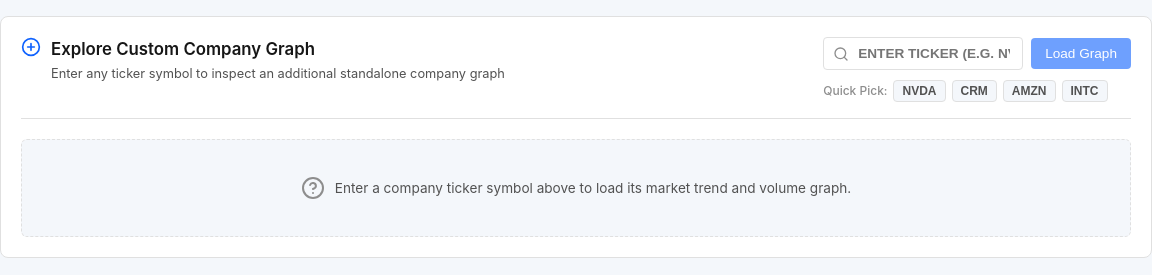
Test: UI Rendering Paths & Component Tests › CustomCompanySection Rendering & Interaction Path › displays clear error message when invalid/unavailable ticker is submitted
The image size is (1152, 275).
In the field with placeholder "Enter Ticker (e.g. NVDA, CRM)": (923, 54) [823,37,1023,70], type "UNKNOWN"
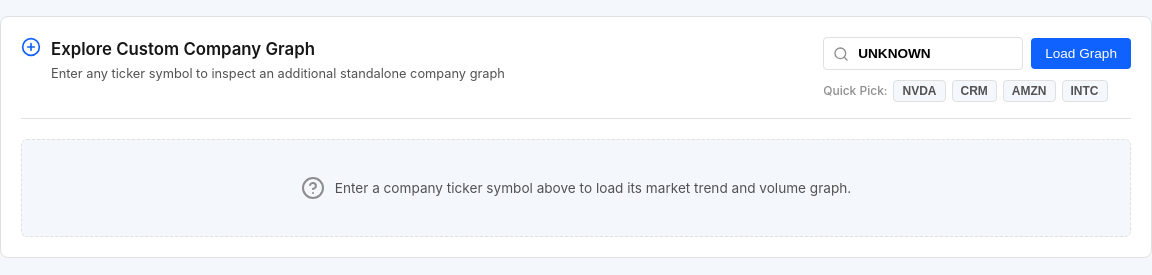
Click the button "Load Graph": (1081, 54) [1031,38,1131,69]
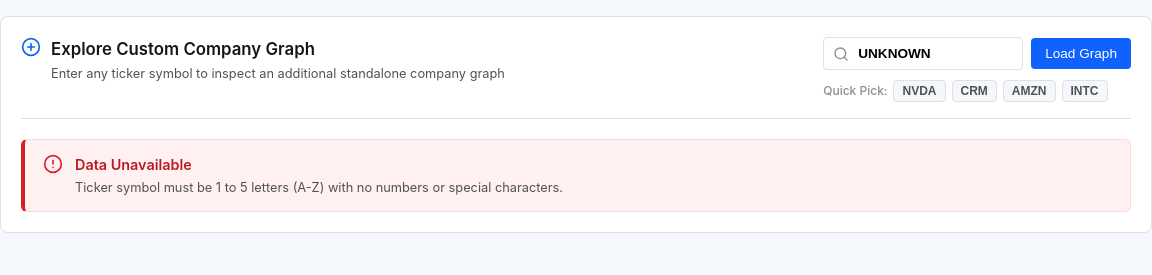
Result: the message is shown at [21,139,1131,212]
Result: the heading "Data Unavailable" is shown at [75,156,192,173]
Result: the text "must be 1 to 5 letters" is shown at [75,180,563,195]
